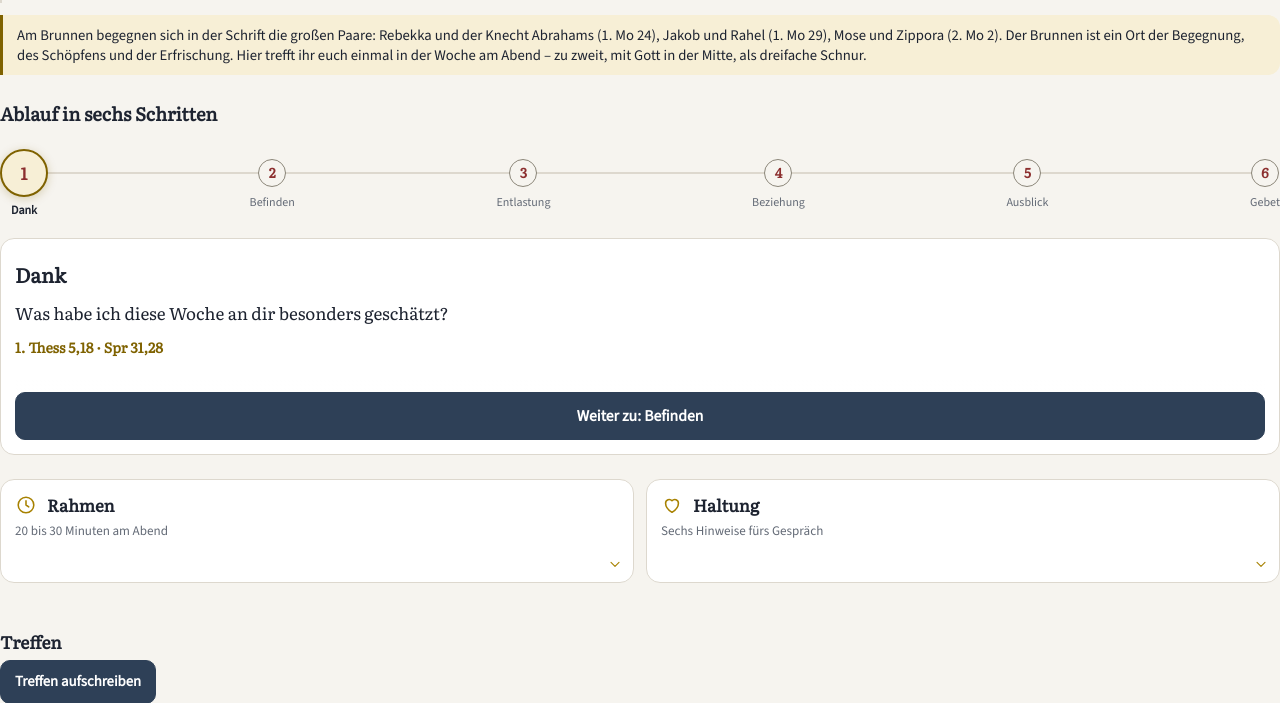
Scenario: Treffen am Abendbrunnen › shows the two verses in Luther 1912, the introduction and the guide
The image size is (1280, 703).
(page scrolled)
Expected: the text with class "arena-note" shows "Rebekka und der Knecht Abrahams (1. Mo 24)", top-left (17, 25), bottom-right (1244, 65)
Expected: the text "Einmal pro Woche 20 bis 30 Minuten" is not shown
Click the button "Rahmen 20 bis 30 Minuten am Abend". click: click(81, 505)
box: top-left (0, 479), bottom-right (634, 583)
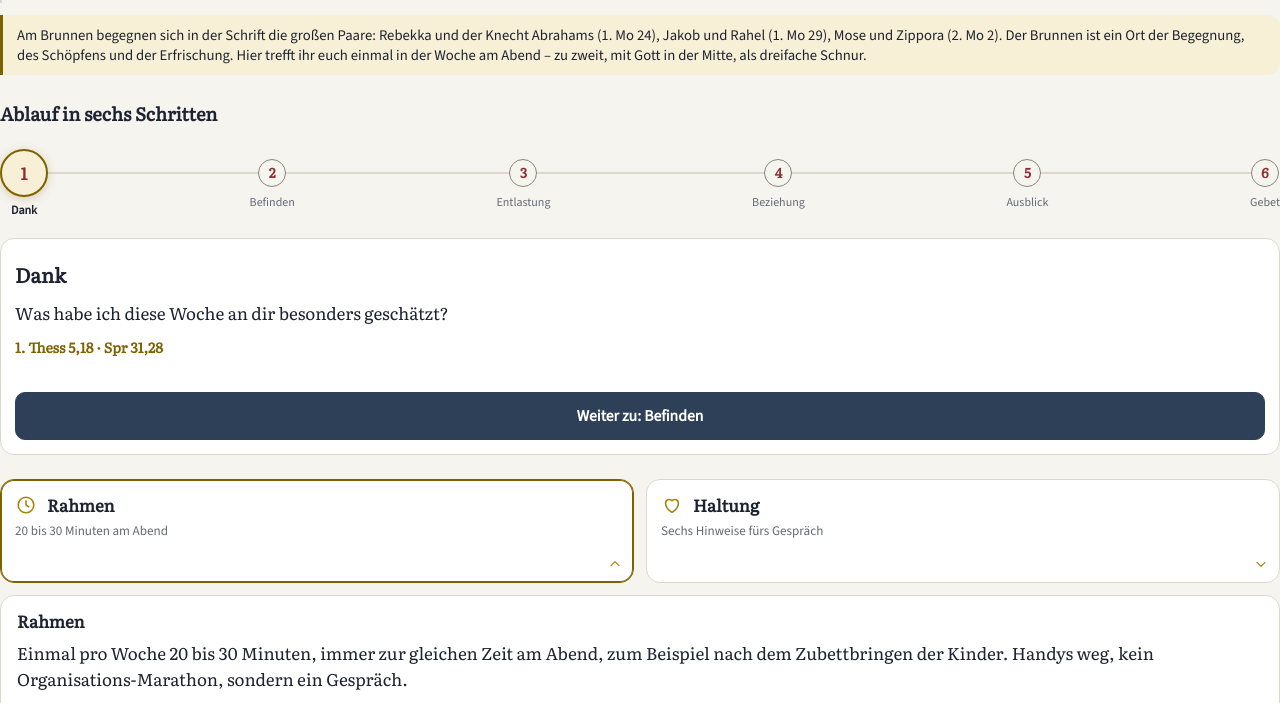
Now the text "Einmal pro Woche 20 bis 30 Minuten" is shown, box top-left (17, 640), bottom-right (1154, 691)
Click the button "Haltung Sechs Hinweise fürs Gespräch". click: click(726, 505)
box: top-left (646, 479), bottom-right (1279, 583)
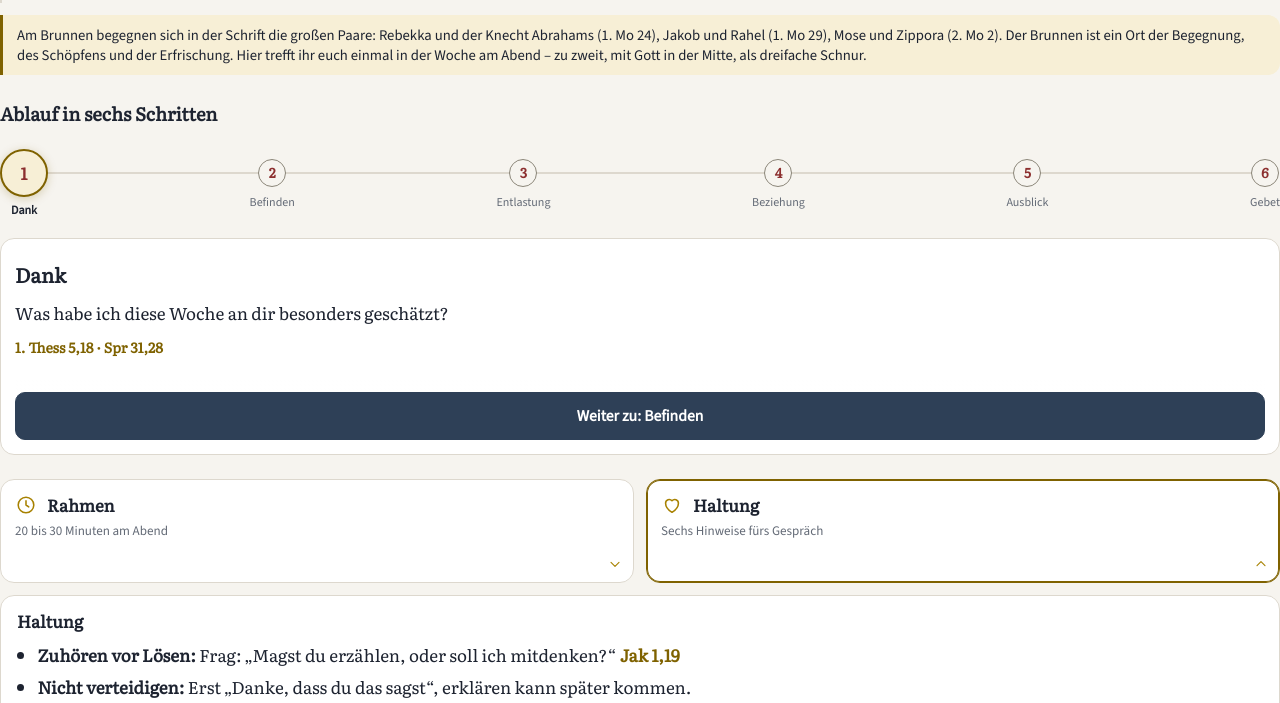
Now the text "Zuhören vor Lösen:" is shown, box top-left (37, 642), bottom-right (196, 667)
